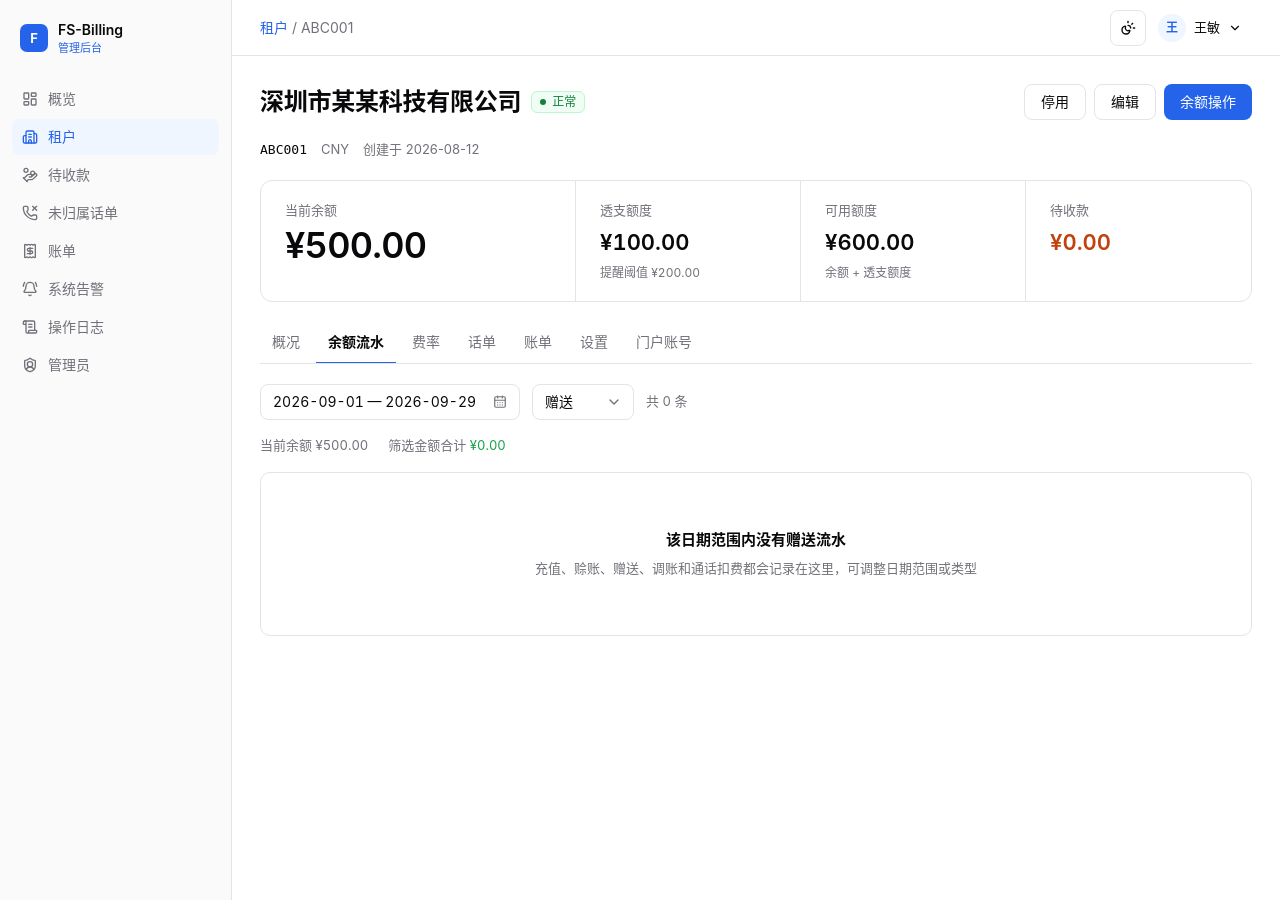
Test: ledger tab filters › restores the filters from the address and keeps them across tab switches
The width and height of the screenshot is (1280, 900).
Check: the text "该日期范围内没有赠送流水" is shown, box [666, 528, 846, 551]
Check: the dropdown named "类型" shows "赠送", box [532, 384, 634, 420]
What coordinates should you click on to do the following:
click the link "费率"
I would click on:
 (426, 342)
Its box is [412, 333, 440, 350].
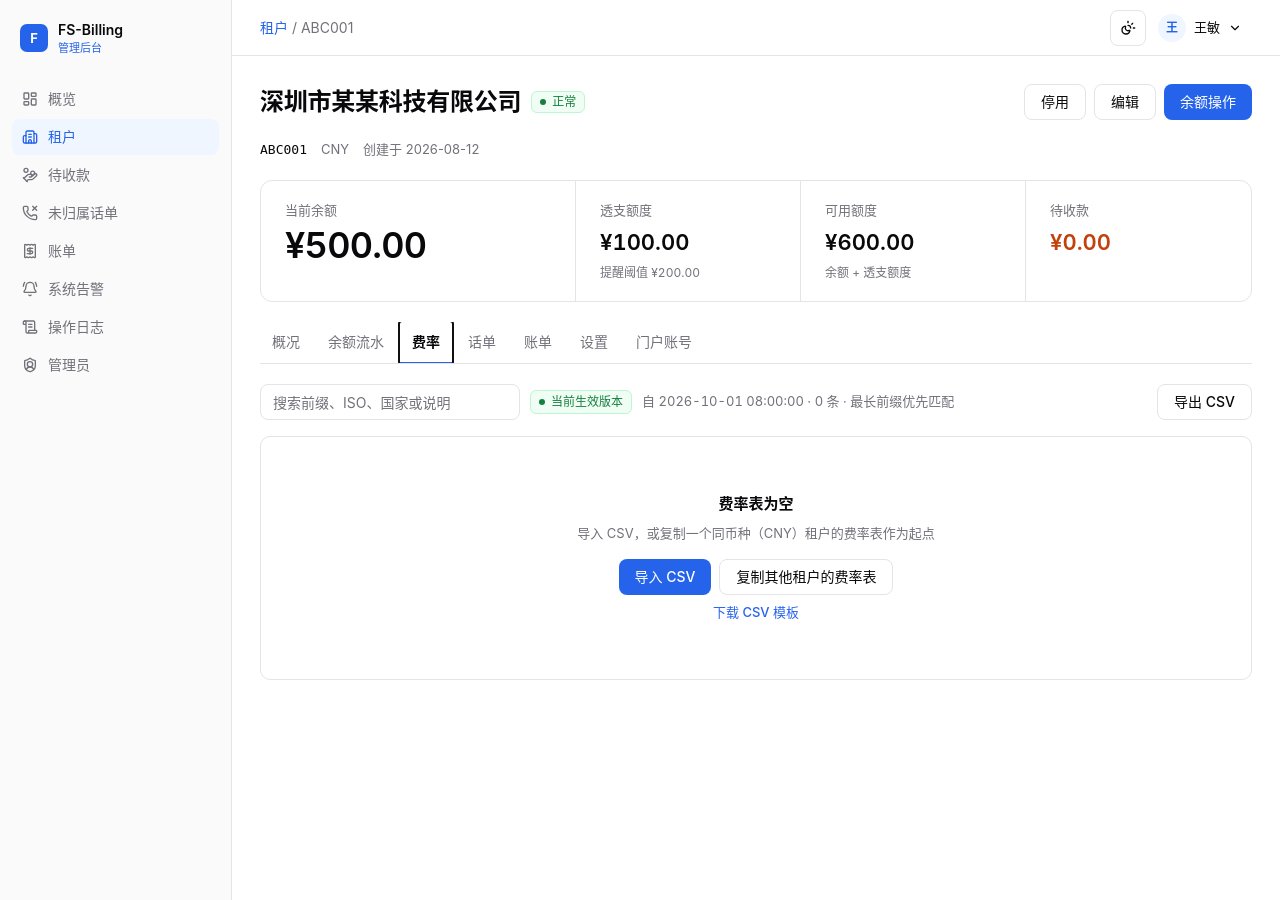
Check: the element "费率表" is shown, box [260, 384, 1252, 680]
What coordinates should you click on to do the following:
click the link "余额流水"
I would click on:
 (356, 342)
Its box is [328, 333, 384, 350].
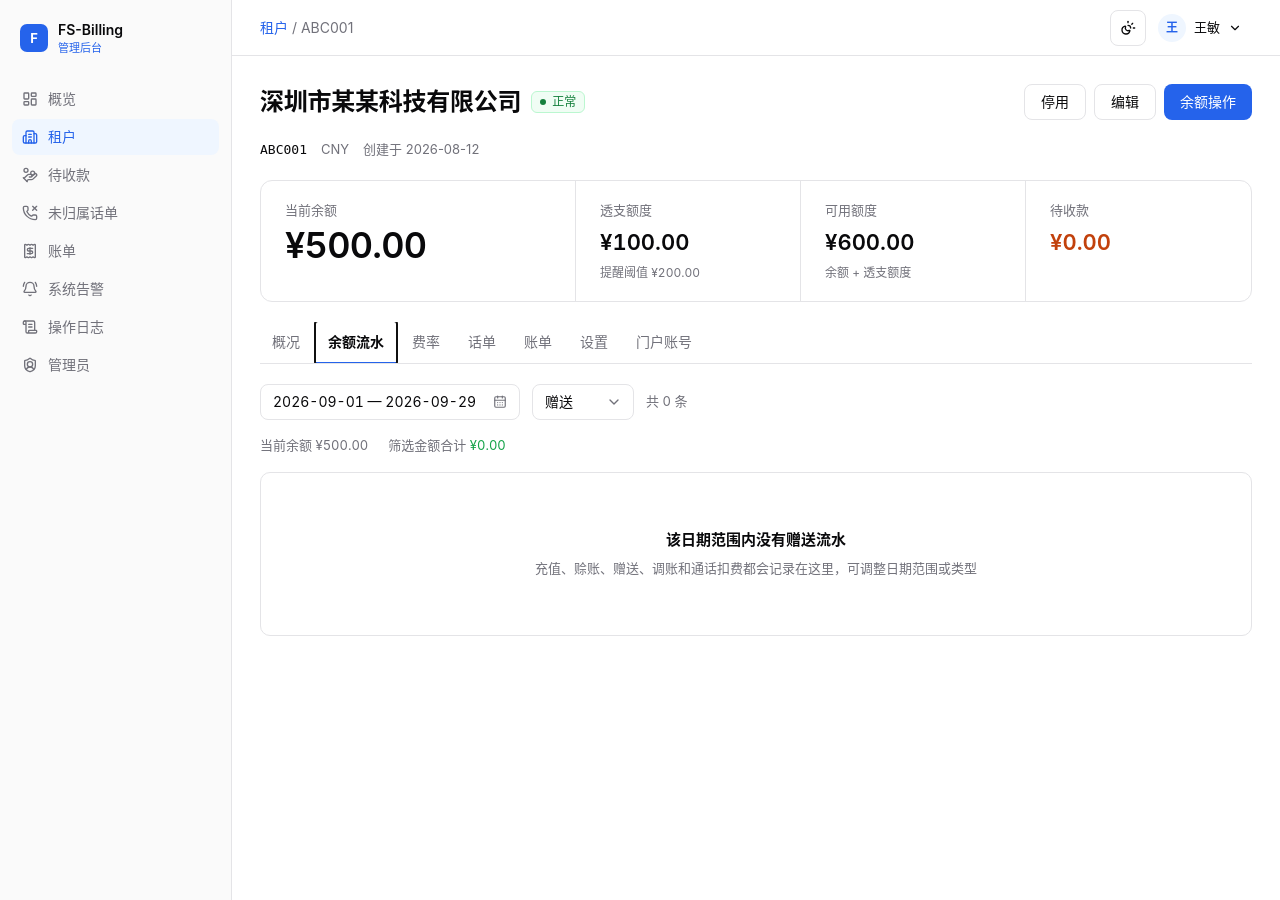
Check: the text "该日期范围内没有赠送流水" is shown, box [666, 528, 846, 551]
Check: the dropdown named "类型" shows "赠送", box [532, 384, 634, 420]
